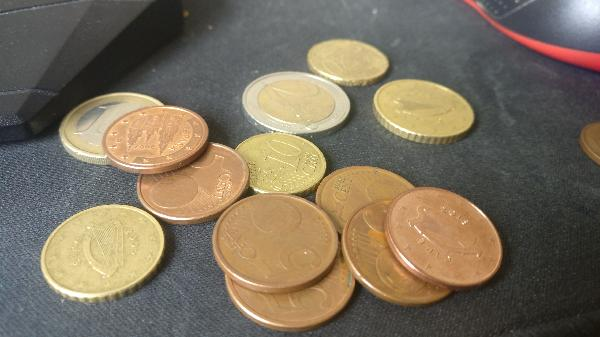Fifty Cent: (374, 77, 477, 143)
Five Cent: (215, 193, 339, 292), (393, 187, 505, 289), (344, 199, 453, 302), (134, 136, 253, 229), (227, 239, 356, 323), (314, 167, 415, 244), (107, 104, 209, 179), (578, 118, 600, 158)
One Euro: (59, 93, 171, 162)
Ten Cent: (42, 207, 176, 302), (234, 131, 326, 194), (309, 39, 391, 84)
Two Euro: (242, 71, 352, 137)
